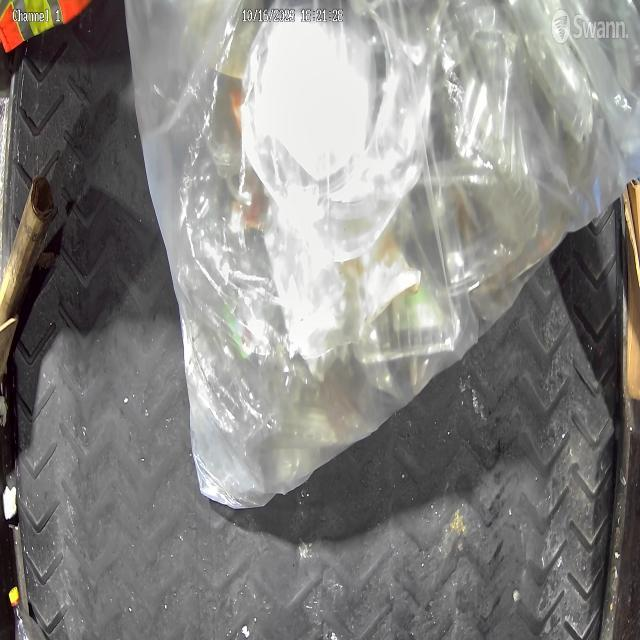plastic_bottle: (8, 587, 47, 640)
